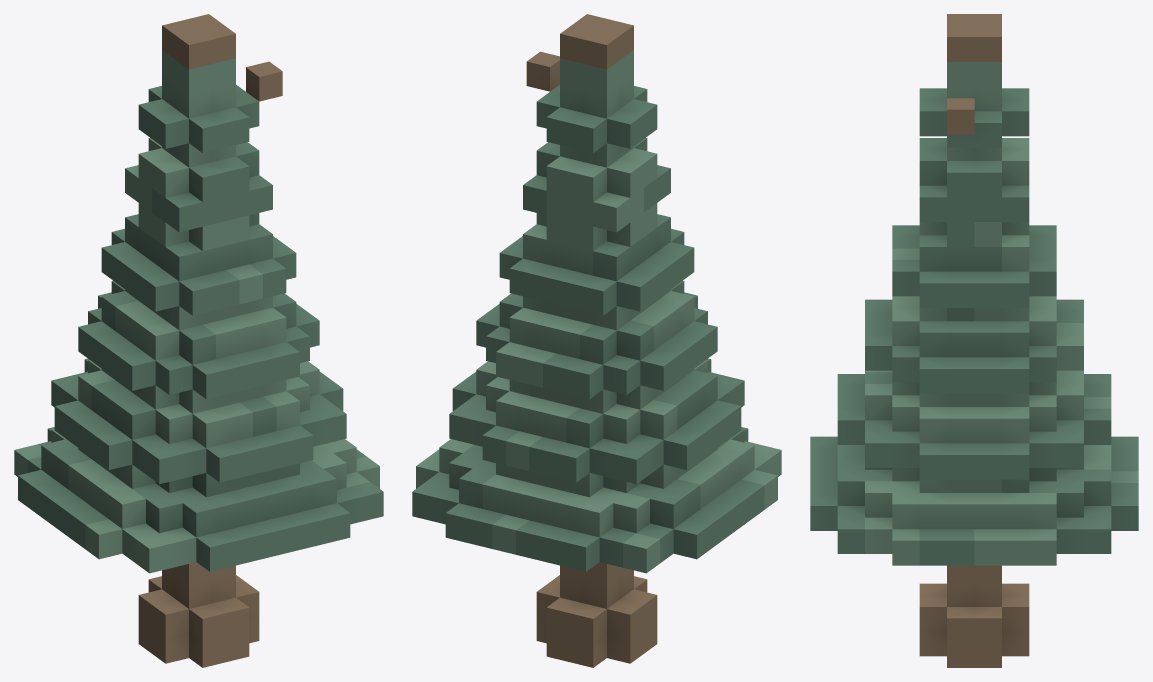
The model's file is grand_pin_2.glb.
3 renders of one model, left to right at view 1: azimuth 30°, elevation 25°; view 2: azimuth 150°, elevation 25°; view 3: azimuth 270°, elevation 25°, orthographic.
Visible parts, largest first — view 1: geometry_0; view 2: geometry_0; view 3: geometry_0.
Boxes of the visible parts, x1,y1,x2,y2 form: geometry_0: [14, 14, 383, 667]; geometry_0: [412, 14, 781, 667]; geometry_0: [810, 14, 1138, 667].
Bounding box in the file's own units: 3 × 6.25 × 3.
